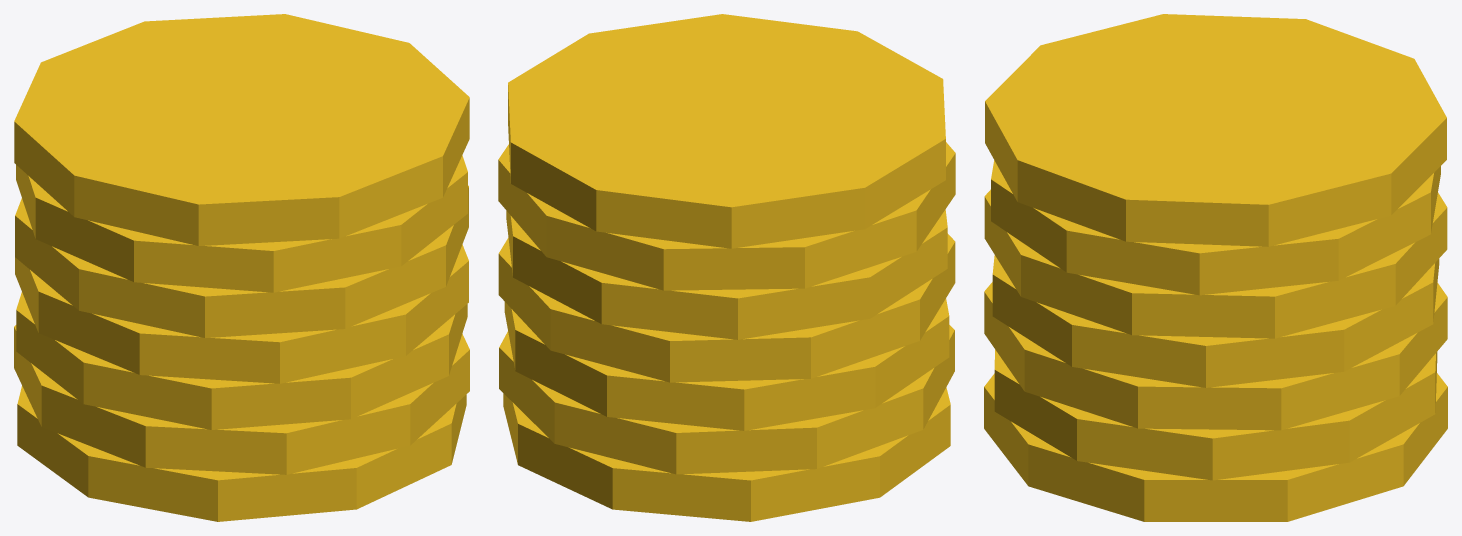
Rendered from gold_coin_stack.glb.
The picture shows the model from 3 angles, left to right: view 1: azimuth 30°, elevation 25°; view 2: azimuth 150°, elevation 25°; view 3: azimuth 270°, elevation 25°; orthographic projection.
Visible parts, largest first — view 1: gold_coin_stack; view 2: gold_coin_stack; view 3: gold_coin_stack.
Part boxes in pixels (x1=…): gold_coin_stack: x1=14, y1=14, x2=469, y2=521; gold_coin_stack: x1=498, y1=14, x2=955, y2=521; gold_coin_stack: x1=984, y1=14, x2=1447, y2=521.
Bounding box in the file's own units: 0.2 × 0.152 × 0.2.
